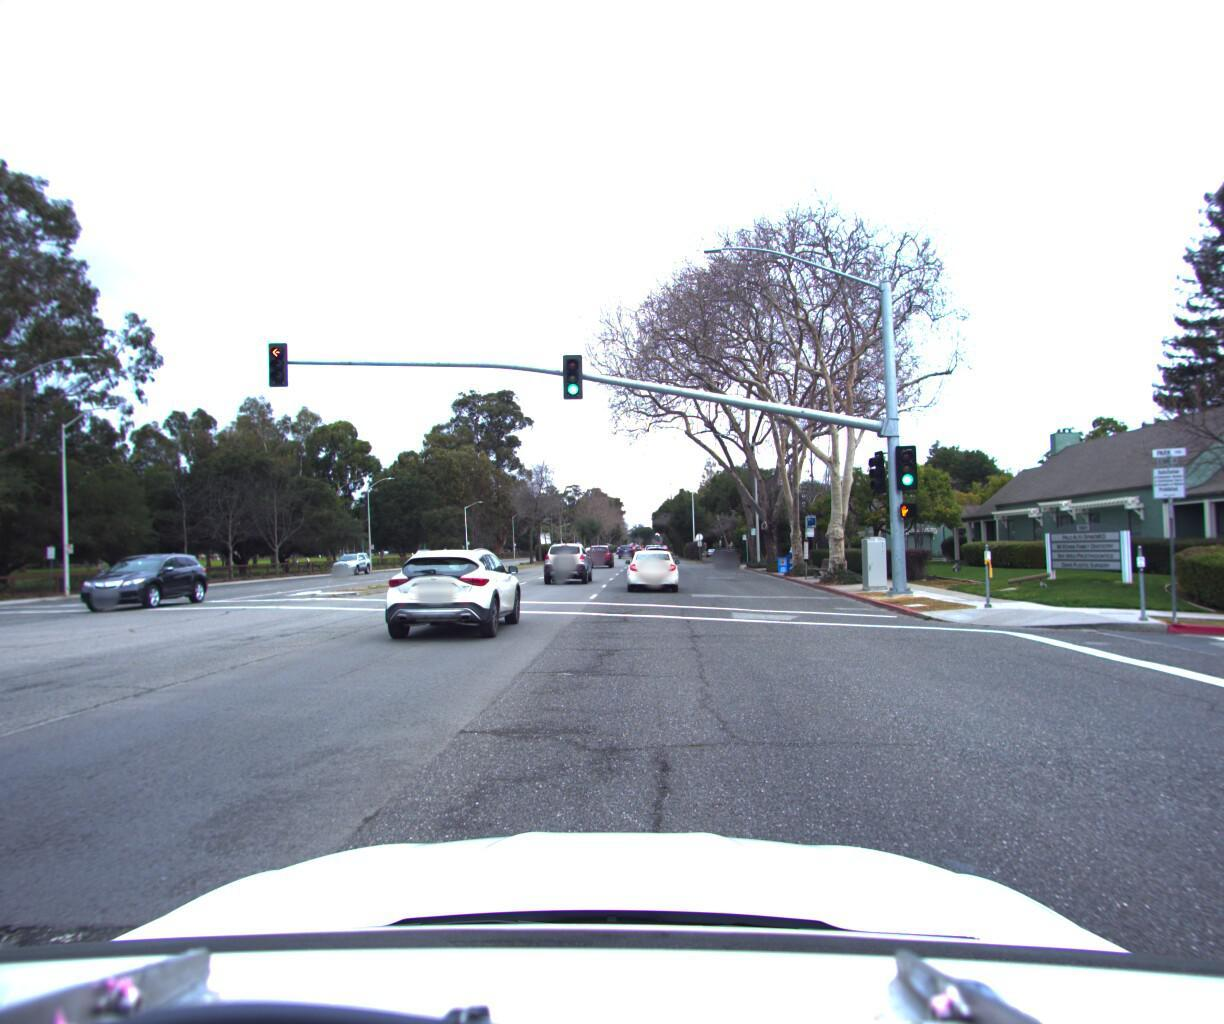car: (385, 545, 531, 643), (70, 556, 216, 614), (625, 544, 678, 593), (540, 536, 593, 584), (584, 536, 613, 562), (397, 549, 432, 565), (715, 541, 738, 560)
